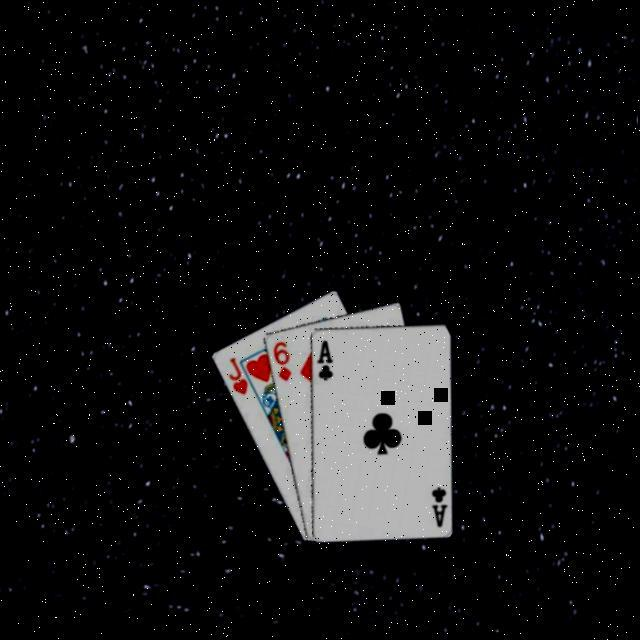6D: (266, 338, 302, 386)
AC: (311, 337, 343, 386), (424, 484, 456, 533)
JH: (222, 355, 257, 399)
